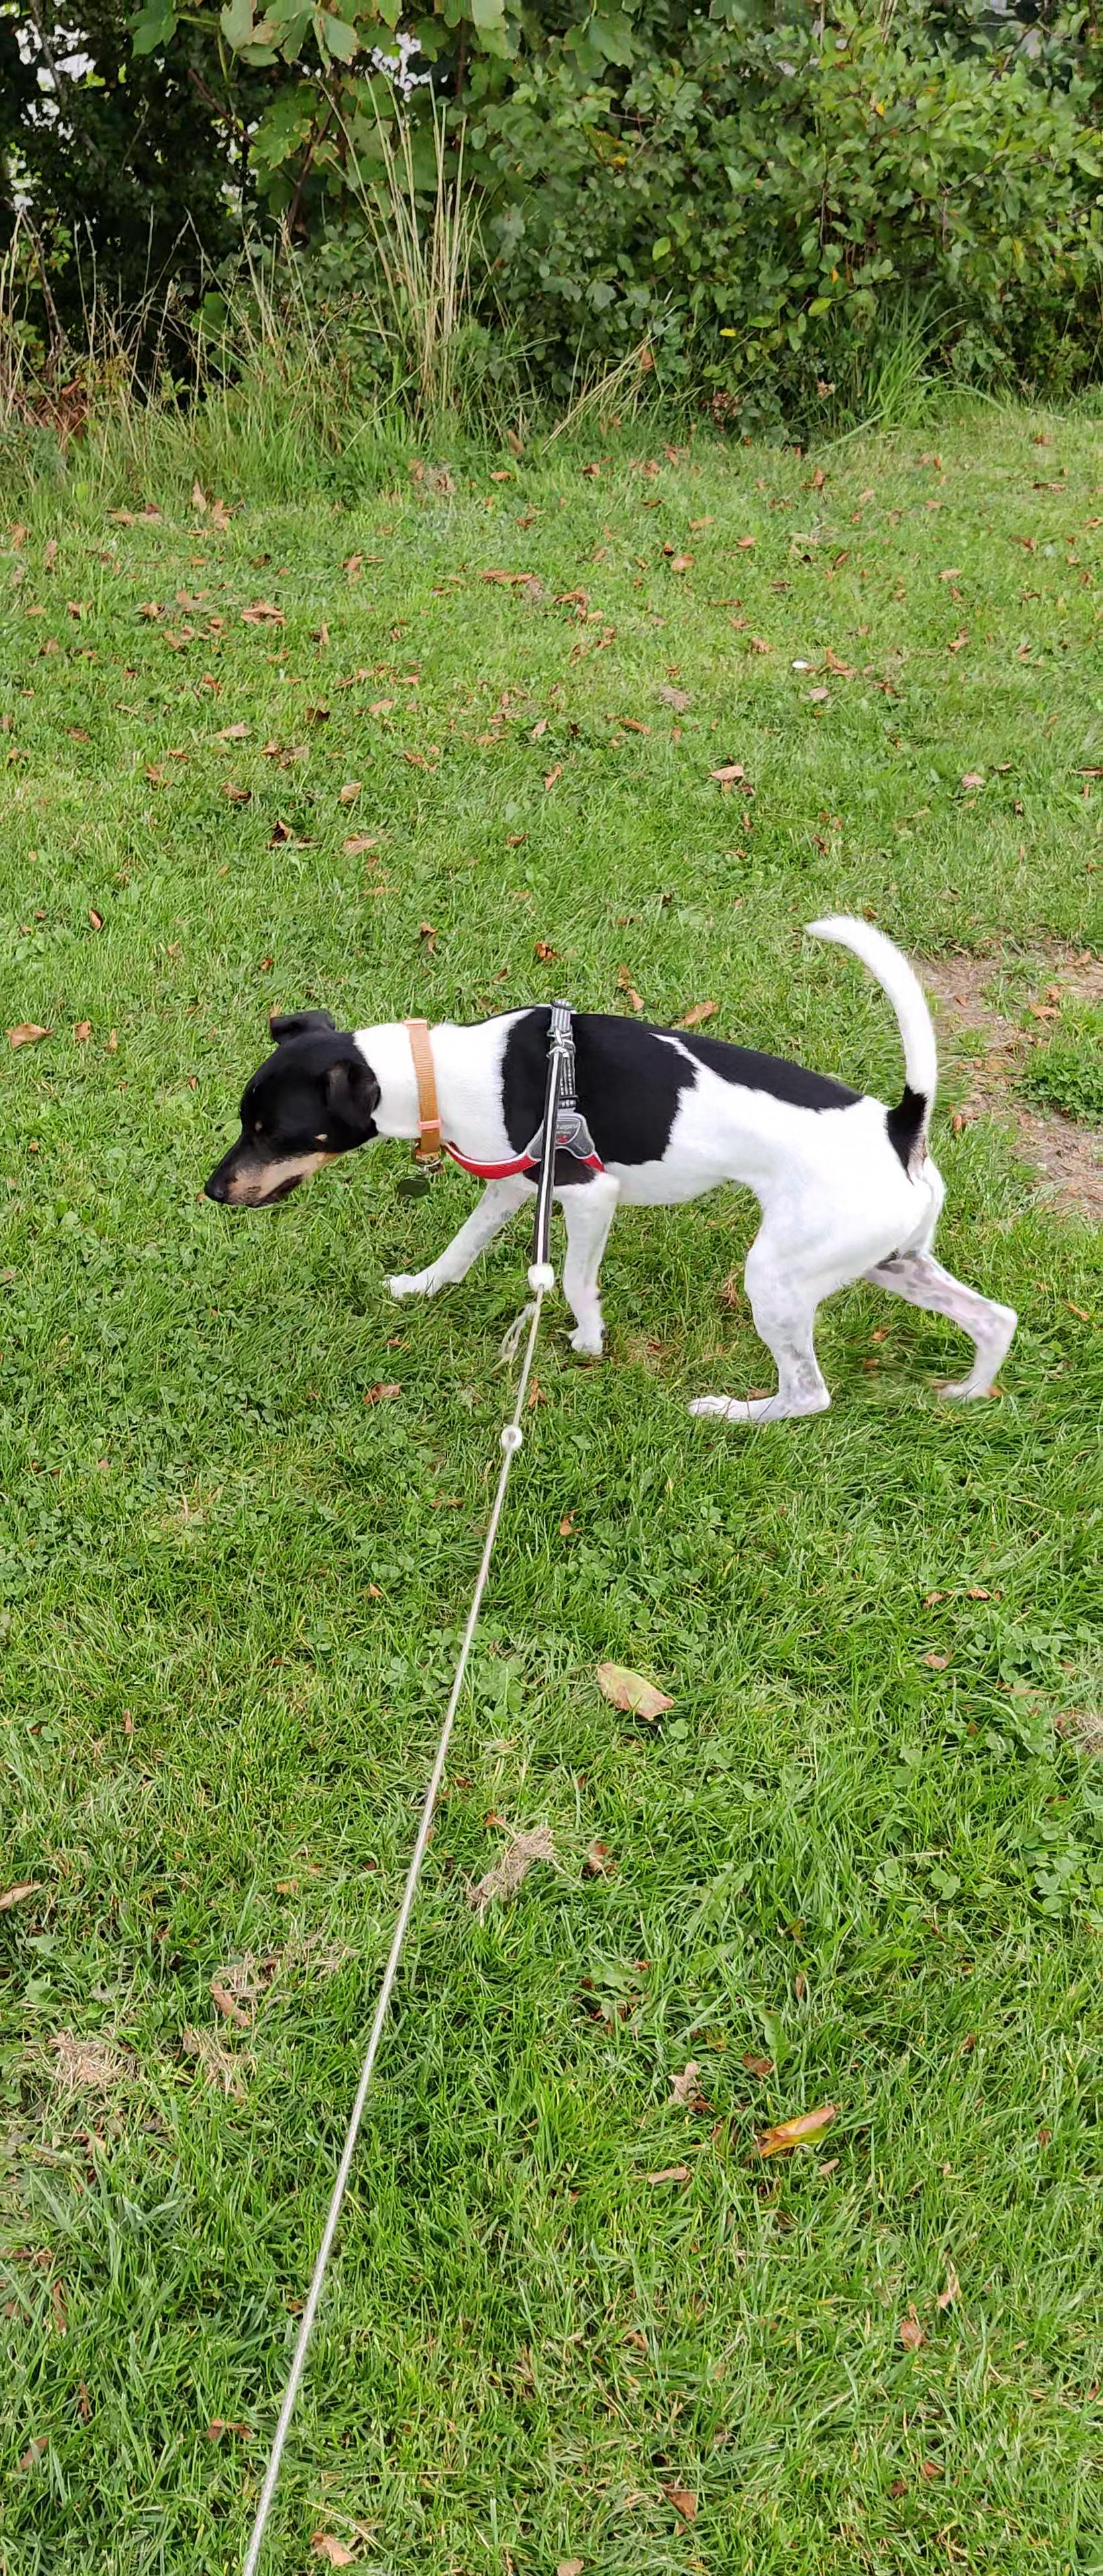Dog: (191, 900, 1034, 1428)
